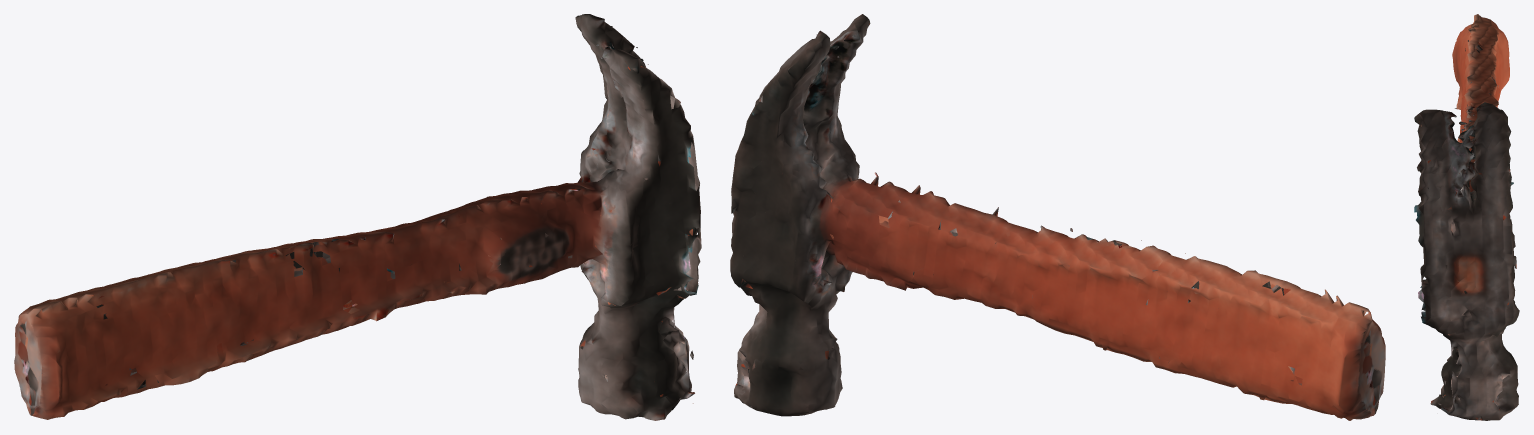
The model's file is rotated_hammer.obj.
3 renders of one model, left to right at view 1: azimuth 30°, elevation 25°; view 2: azimuth 150°, elevation 25°; view 3: azimuth 270°, elevation 25°, orthographic. The views are drawn at different scales.
Size of the model in its own units: 0.1502 by 0.0872 by 0.0284.
1 material, 1 textured.
